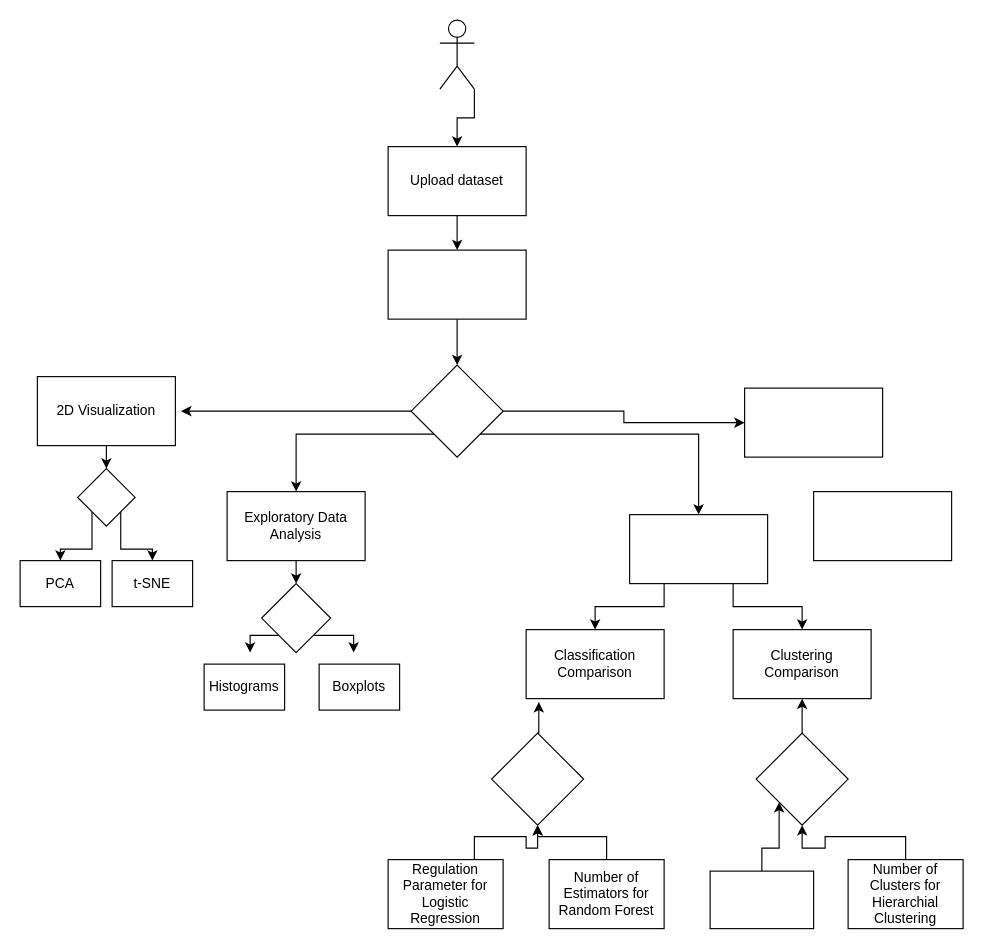
Some shapes in this 983 by 949 pixel diagram are drawn without their labels. Each missing label, with the centre of its shape:
Comparison: point (698, 548)
Info: point (813, 422)
Number of Clusters (K) for K Means: point (761, 899)
Show info: point (882, 525)
Upload Complete: point (456, 284)
Χρήστης: point (456, 54)
